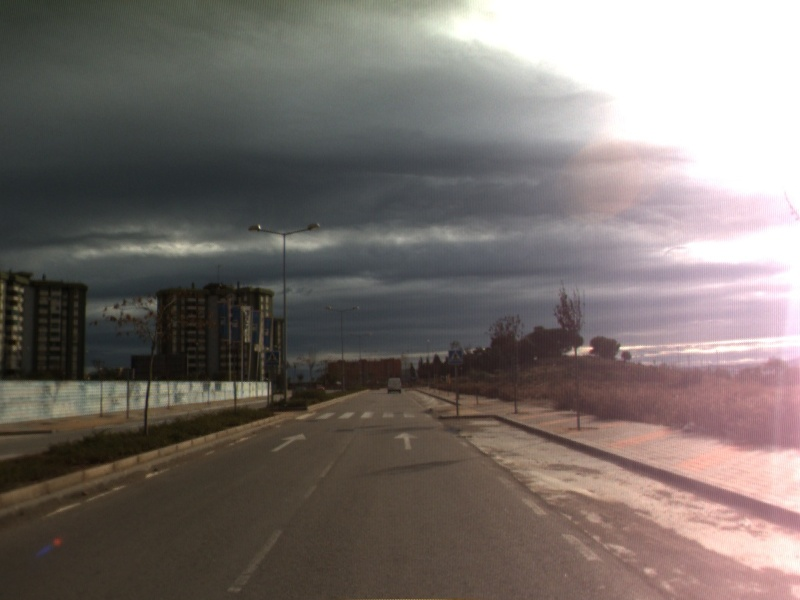STRAIGHT: (269, 431, 309, 454), (392, 430, 421, 452)
